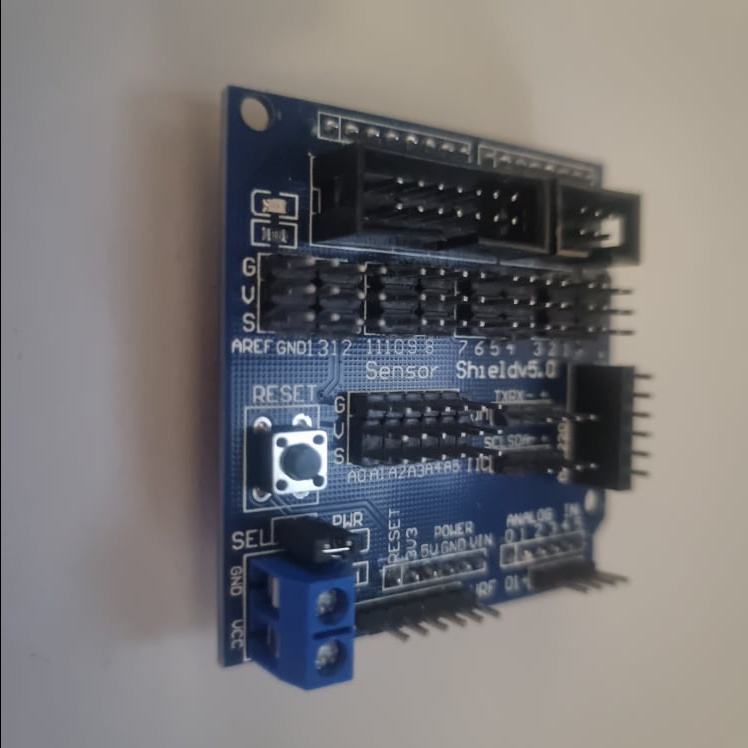5V EXPANSION: (211, 81, 649, 691)
